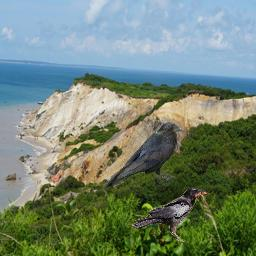Crow: (103, 122, 186, 189), (130, 186, 214, 242)
